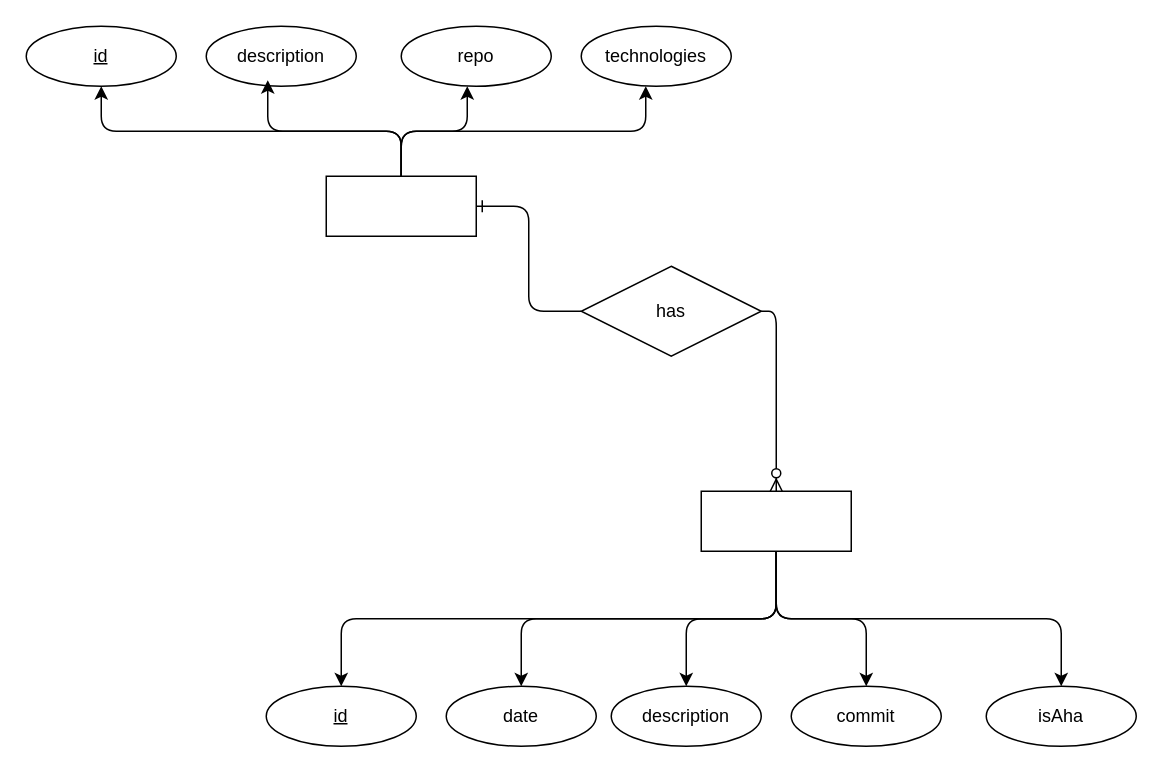
Some shapes in this 1163 by 773 pixel diagram are drawn without their labels. The shapes that lost their labels are listed below. From the top down, each one's centre as x and y in pixels, then its label:
[400,205]: Focus
[775,520]: Entry
